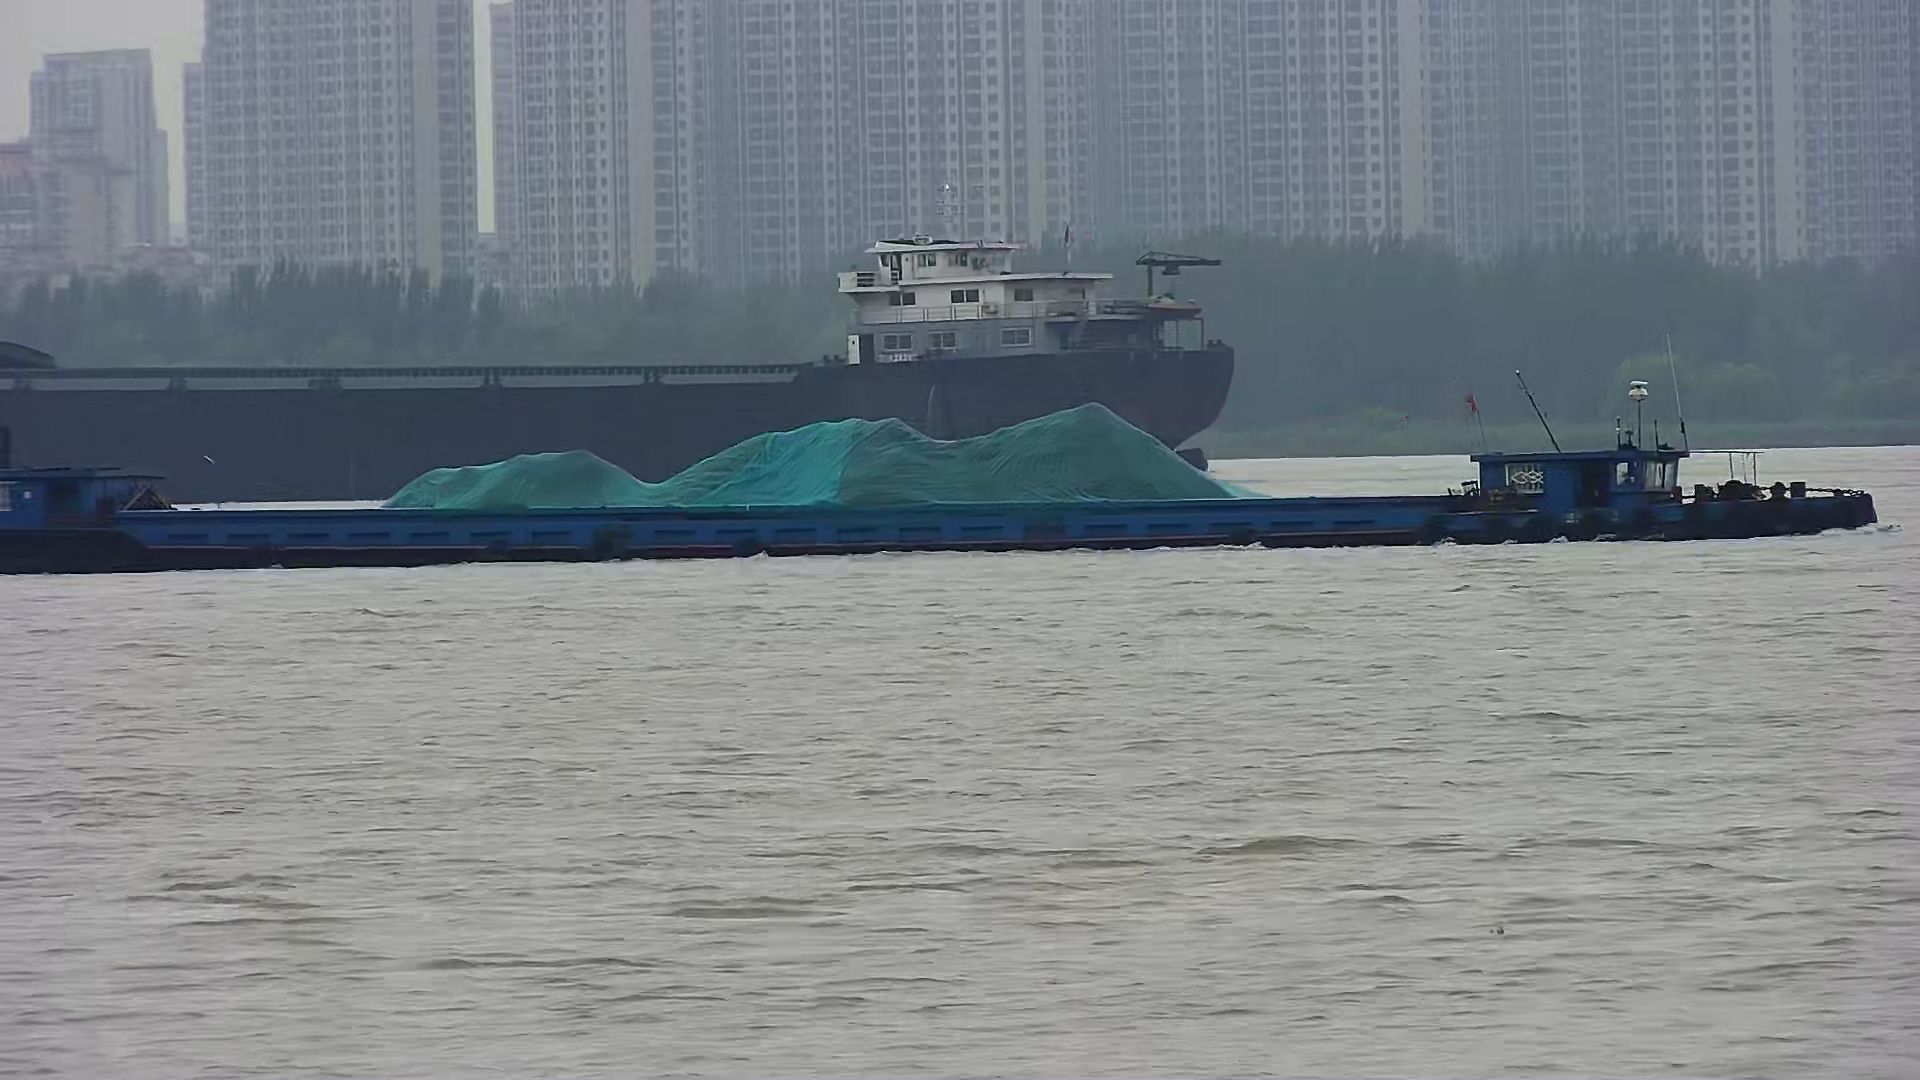ship: (1, 371, 1884, 574), (1, 212, 1240, 500)
